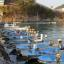fishing boat: (19, 46, 64, 58), (36, 52, 64, 64), (1, 22, 32, 30), (5, 38, 50, 43)
